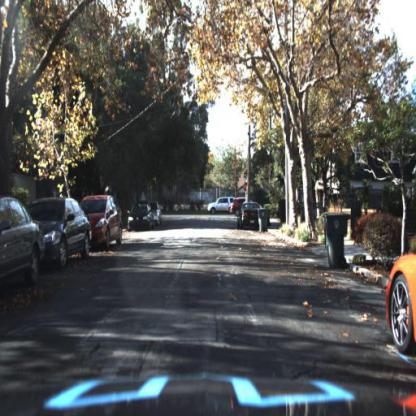car: (24, 196, 97, 272), (2, 193, 45, 297), (42, 192, 95, 276), (386, 255, 416, 364), (83, 190, 124, 248), (91, 187, 125, 256), (127, 199, 158, 230), (237, 199, 262, 228), (208, 195, 235, 217)
